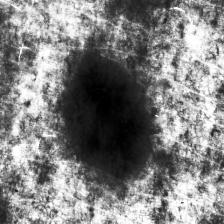Benign Marking or Mole: (68, 58, 146, 180)
